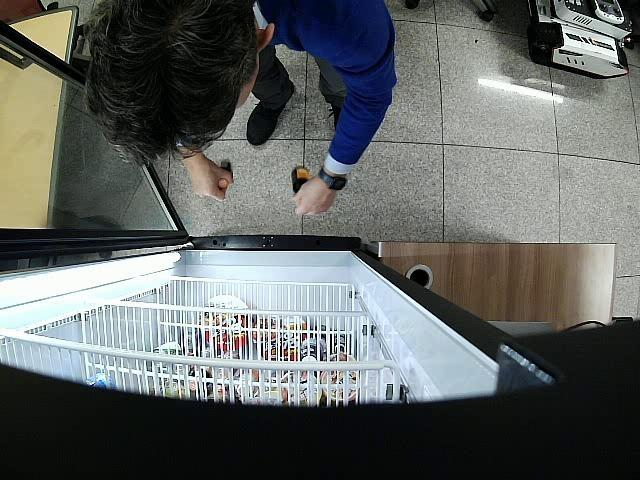17_vita500: (292, 167, 308, 193), (219, 160, 231, 188)
